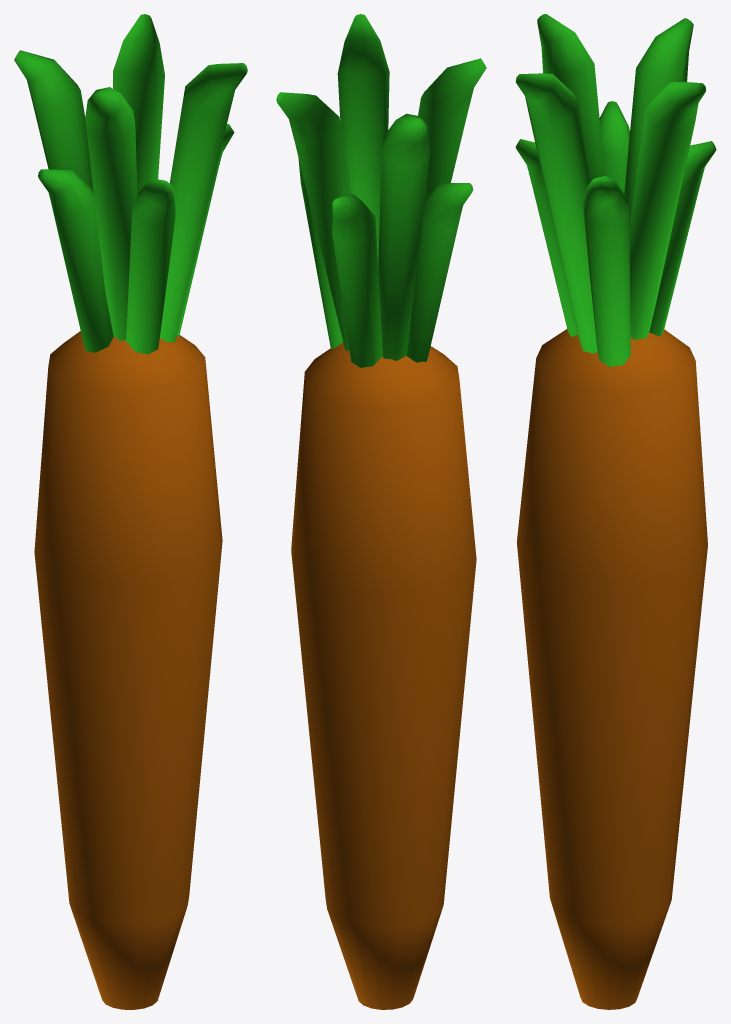
Rendered from carrotsmall.obj.
The picture shows the model from 3 angles, left to right: view 1: azimuth 30°, elevation 25°; view 2: azimuth 150°, elevation 25°; view 3: azimuth 270°, elevation 25°; orthographic projection. The views are drawn at different scales.
Visible parts, largest first — view 1: Cylinder_Cylinder, Cylinder.007_Cylinder.005, Cylinder.006_Cylinder.004, Cylinder.001_Cylinder.001, Cylinder.003_Cylinder.001, Cylinder.005_Cylinder.003, Cylinder.008_Cylinder.006, Cylinder.002_Cylinder.001; view 2: Cylinder_Cylinder, Cylinder.005_Cylinder.003, Cylinder.007_Cylinder.005, Cylinder.008_Cylinder.006, Cylinder.004_Cylinder.002, Cylinder.001_Cylinder.001, Cylinder.006_Cylinder.004, Cylinder.002_Cylinder.001; view 3: Cylinder_Cylinder, Cylinder.008_Cylinder.006, Cylinder.007_Cylinder.005, Cylinder.002_Cylinder.001, Cylinder.006_Cylinder.004, Cylinder.005_Cylinder.003, Cylinder.004_Cylinder.002, Cylinder.003_Cylinder.001, Cylinder.001_Cylinder.001.
Part boxes in pixels (left/top/right/bottom): Cylinder_Cylinder: left=34, top=331, right=222, bottom=1009; Cylinder.007_Cylinder.005: left=160, top=63, right=247, bottom=342; Cylinder.006_Cylinder.004: left=85, top=87, right=137, bottom=340; Cylinder.001_Cylinder.001: left=38, top=169, right=113, bottom=352; Cylinder.003_Cylinder.001: left=126, top=178, right=175, bottom=354; Cylinder.005_Cylinder.003: left=14, top=50, right=93, bottom=193; Cylinder.008_Cylinder.006: left=113, top=14, right=164, bottom=193; Cylinder.002_Cylinder.001: left=176, top=124, right=234, bottom=336; Cylinder_Cylinder: left=291, top=342, right=476, bottom=1009; Cylinder.005_Cylinder.003: left=378, top=113, right=430, bottom=360; Cylinder.007_Cylinder.005: left=337, top=14, right=389, bottom=259; Cylinder.008_Cylinder.006: left=276, top=92, right=352, bottom=350; Cylinder.004_Cylinder.002: left=332, top=194, right=382, bottom=367; Cylinder.001_Cylinder.001: left=406, top=183, right=473, bottom=362; Cylinder.006_Cylinder.004: left=418, top=58, right=486, bottom=196; Cylinder.002_Cylinder.001: left=298, top=157, right=343, bottom=349; Cylinder_Cylinder: left=517, top=329, right=707, bottom=1009; Cylinder.008_Cylinder.006: left=629, top=81, right=705, bottom=339; Cylinder.007_Cylinder.005: left=515, top=73, right=597, bottom=353; Cylinder.002_Cylinder.001: left=582, top=176, right=630, bottom=367; Cylinder.006_Cylinder.004: left=537, top=14, right=604, bottom=183; Cylinder.005_Cylinder.003: left=624, top=18, right=693, bottom=226; Cylinder.004_Cylinder.002: left=649, top=141, right=716, bottom=336; Cylinder.003_Cylinder.001: left=515, top=139, right=577, bottom=336; Cylinder.001_Cylinder.001: left=599, top=101, right=629, bottom=192.
Size of the model in its own units: 2.42 by 11.75 by 2.24.
